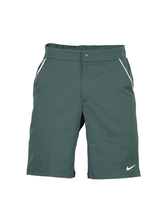clothoes: (26, 40, 149, 182)
